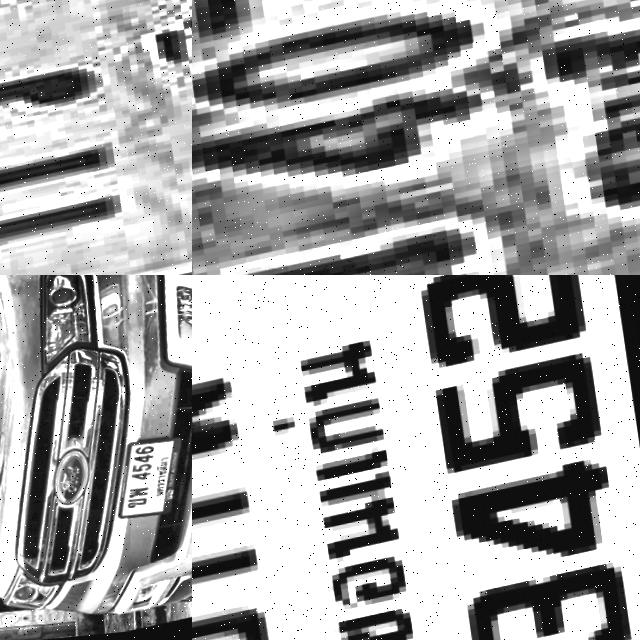license-plate: (192, 275, 640, 640), (192, 0, 640, 275), (0, 0, 192, 275), (99, 435, 192, 532)
